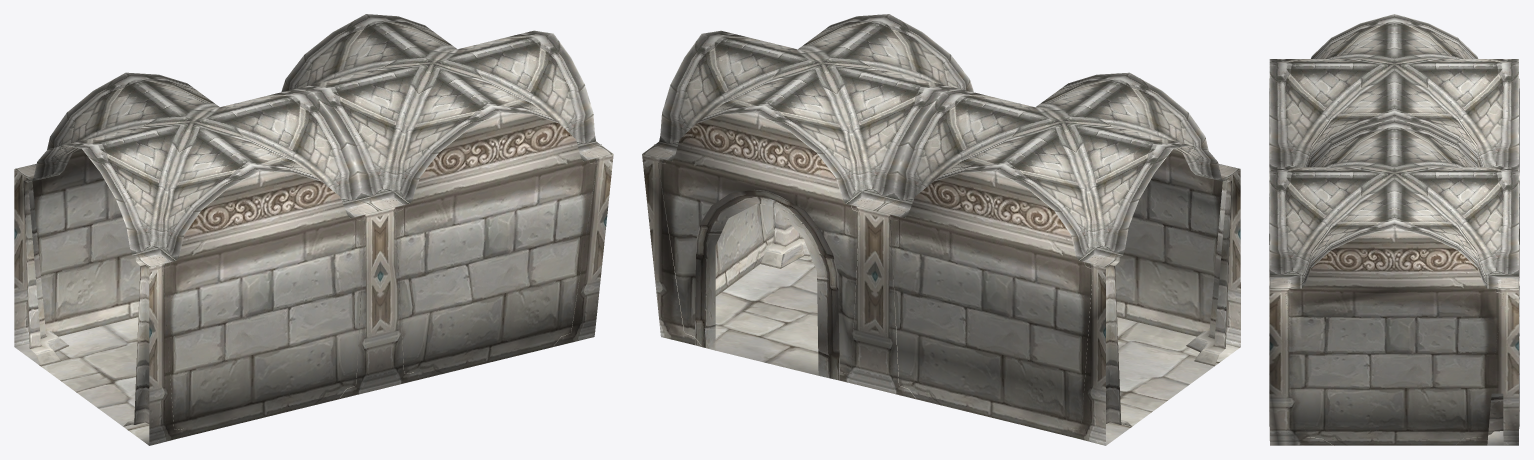
File: stormwind_129.fbx
3 renders of one model, left to right at view 1: azimuth 30°, elevation 25°; view 2: azimuth 150°, elevation 25°; view 3: azimuth 270°, elevation 25°, orthographic. The views are drawn at different scales.
Parts seen in each view (by area): view 1: stormwind_129_62, stormwind_129_111, stormwind_129_52, stormwind_129_60, stormwind_129_61; view 2: stormwind_129_62, stormwind_129_111, stormwind_129_52, stormwind_129_60, stormwind_129_61; view 3: stormwind_129_111, stormwind_129_62, stormwind_129_60.
Part boxes in pixels (x1,y1,x2,y2): stormwind_129_62: (14, 112, 613, 445); stormwind_129_111: (15, 14, 612, 267); stormwind_129_52: (14, 317, 149, 445); stormwind_129_60: (23, 164, 597, 429); stormwind_129_61: (24, 144, 601, 429); stormwind_129_62: (642, 112, 1240, 445); stormwind_129_111: (642, 14, 1240, 267); stormwind_129_52: (715, 256, 1240, 445); stormwind_129_60: (658, 164, 1231, 429); stormwind_129_61: (654, 144, 1231, 429); stormwind_129_111: (1269, 14, 1519, 288); stormwind_129_62: (1269, 81, 1519, 445); stormwind_129_60: (1269, 91, 1519, 431).
Bounding box in the file's own units: 18.44 × 9.25 × 9.14.
